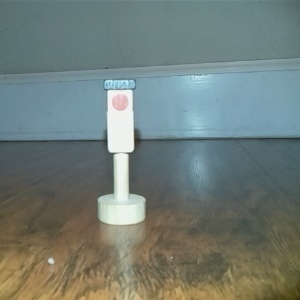traffic light red: (95, 76, 148, 227)
